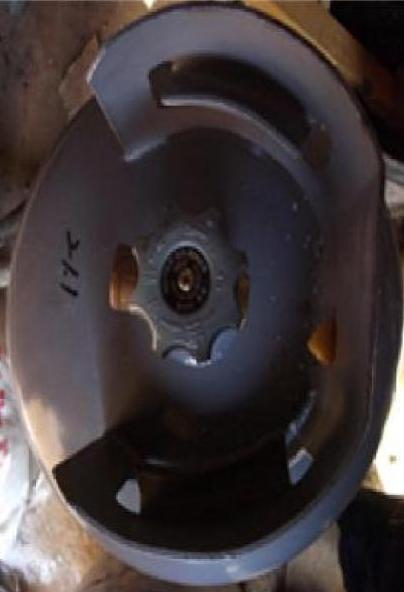cylinder: (0, 1, 404, 592)
